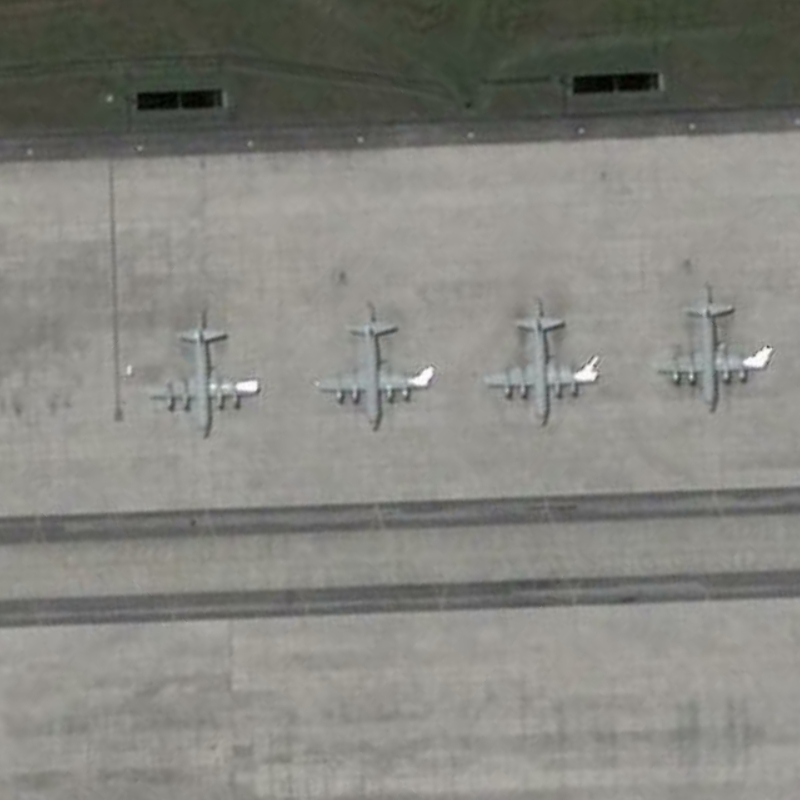A9: (305, 294, 432, 437), (476, 296, 600, 434), (143, 305, 261, 444), (651, 282, 765, 418)
